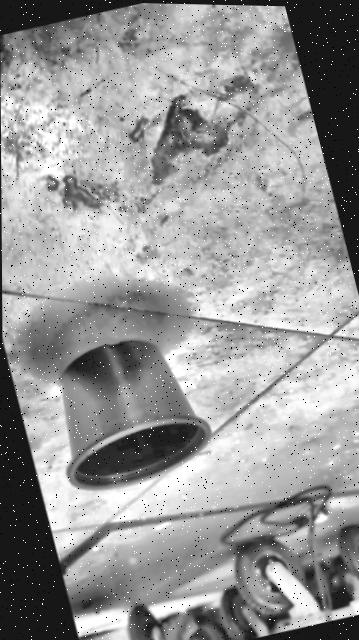pot: (38, 325, 218, 501)
